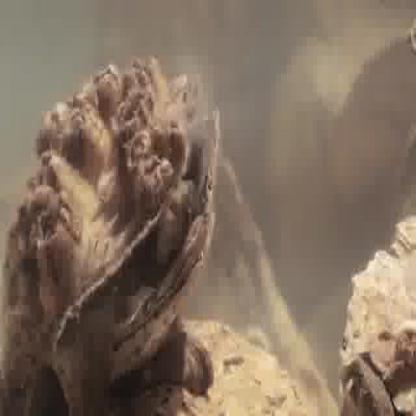Oyster-Closed: (134, 318, 309, 416), (343, 248, 416, 416), (115, 326, 214, 398), (395, 213, 416, 258), (410, 18, 416, 51)
Oyster-Open: (6, 58, 219, 387), (339, 361, 395, 416)
